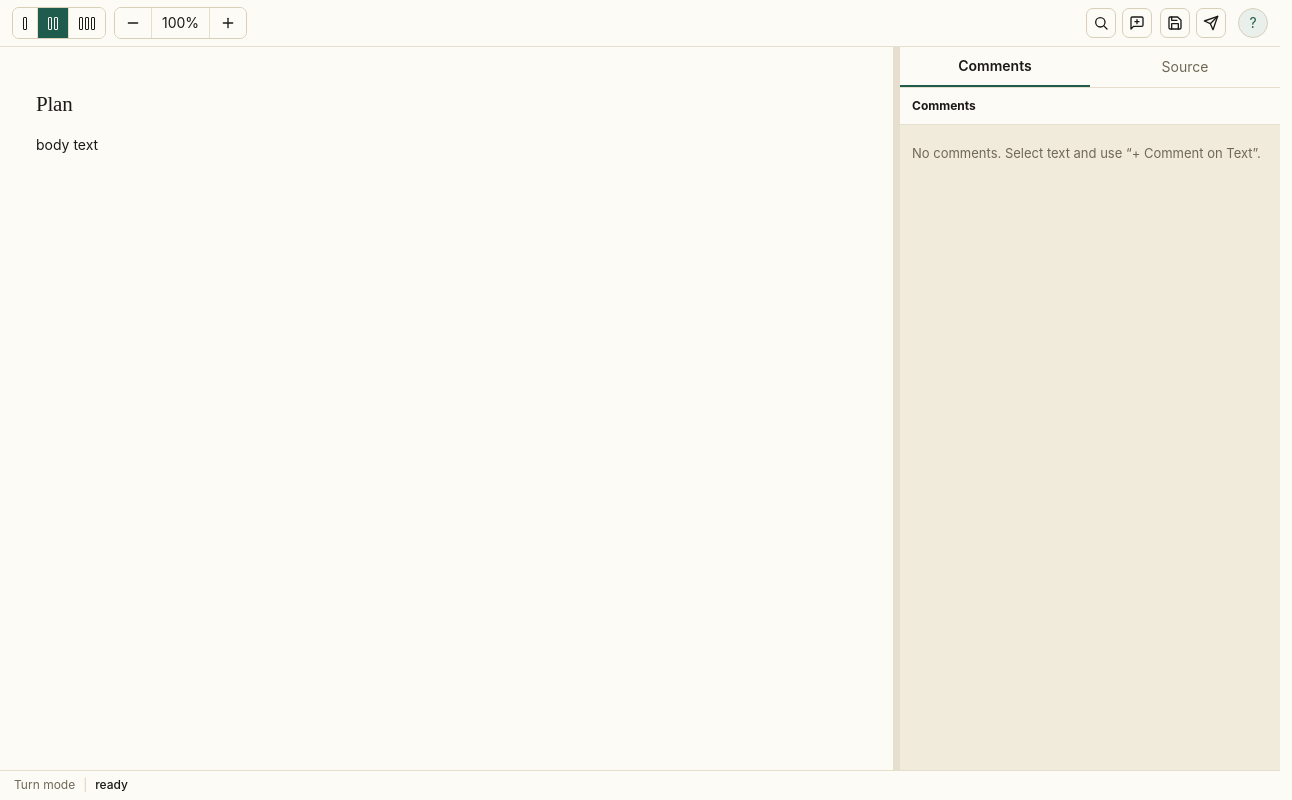
Test case: App doc-comment ordering + auto-resolve setting (memory-backed) › loads autoResolve=false from settings on mount (checkbox reflects it)
The image size is (1292, 800).
# Open the Settings (avatar) menu.
Click the button "?" at (1253, 23), box [1238,8,1268,38]
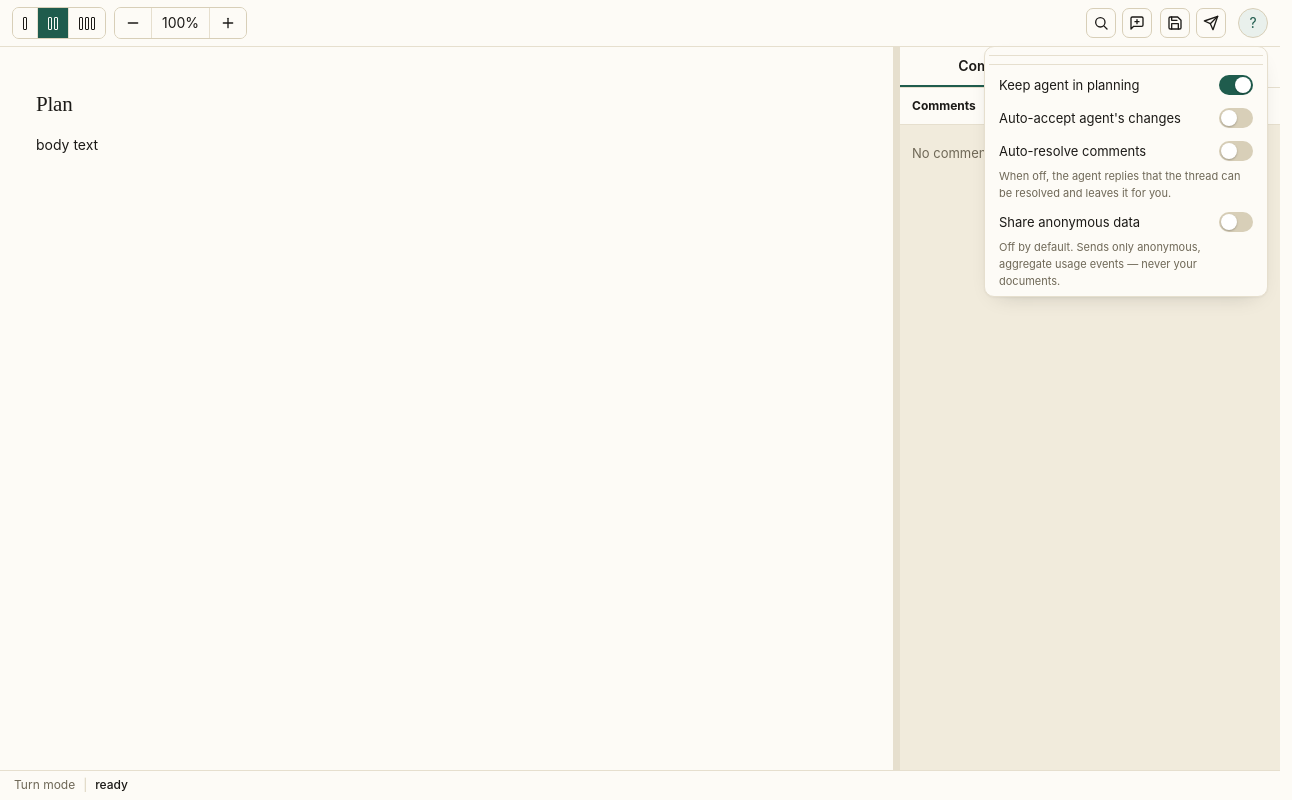
Expected: the switch labelled "Auto-resolve comments" is not checked, [989,135,1263,167]
